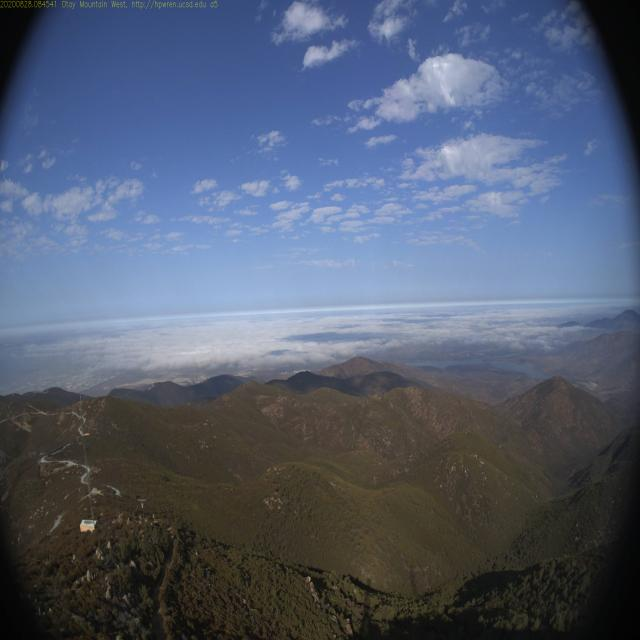smoke: (508, 361, 536, 397)
